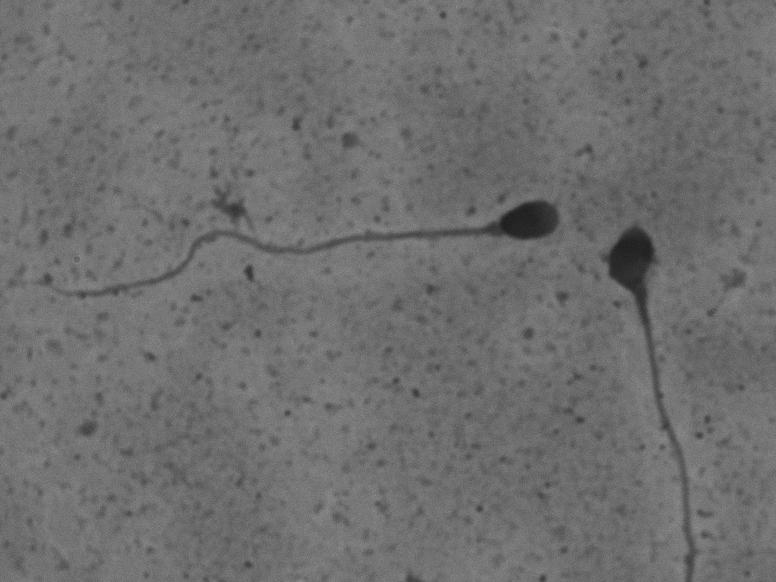Abnormal: (591, 209, 714, 577)
Normal: (28, 183, 572, 311)
